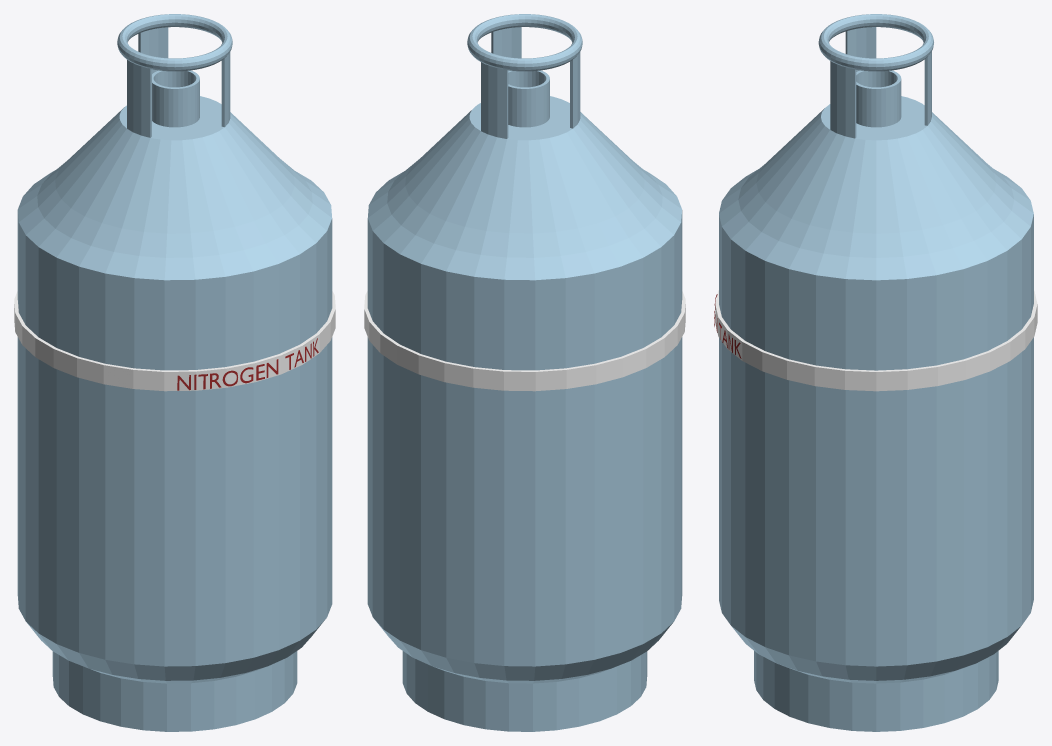
File: tank.gltf
3 renders of one model, left to right at view 1: azimuth 30°, elevation 25°; view 2: azimuth 150°, elevation 25°; view 3: azimuth 270°, elevation 25°, orthographic.
Visible parts, largest first — view 1: tank, Circle, Text.001; view 2: tank, Circle; view 3: tank, Circle.
Part boxes in pixels (x1,y1,x2,y2): tank: [17, 14, 332, 731]; Circle: [14, 291, 335, 391]; Text.001: [177, 338, 318, 390]; tank: [367, 14, 682, 731]; Circle: [364, 291, 685, 391]; tank: [719, 14, 1033, 731]; Circle: [715, 290, 1037, 391].
Size of the model in its own units: 2.05 by 4.51 by 2.05.
